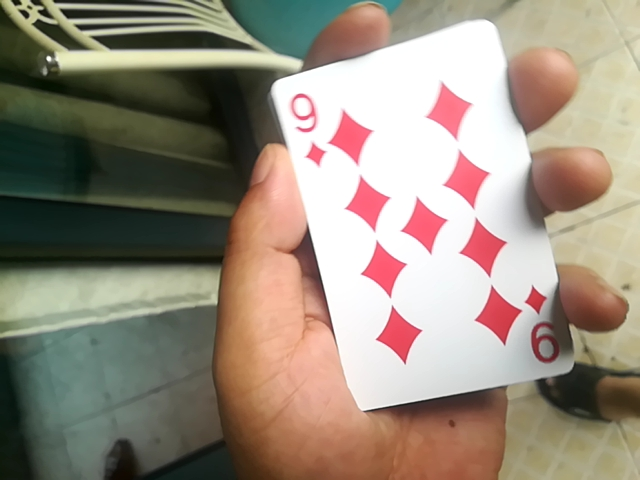fk 9: (282, 12, 563, 427)
